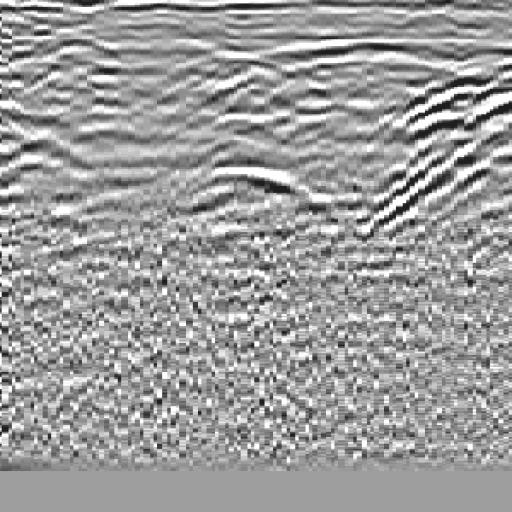metalic: (171, 37, 345, 257)
nonmetalic: (382, 24, 512, 262)
